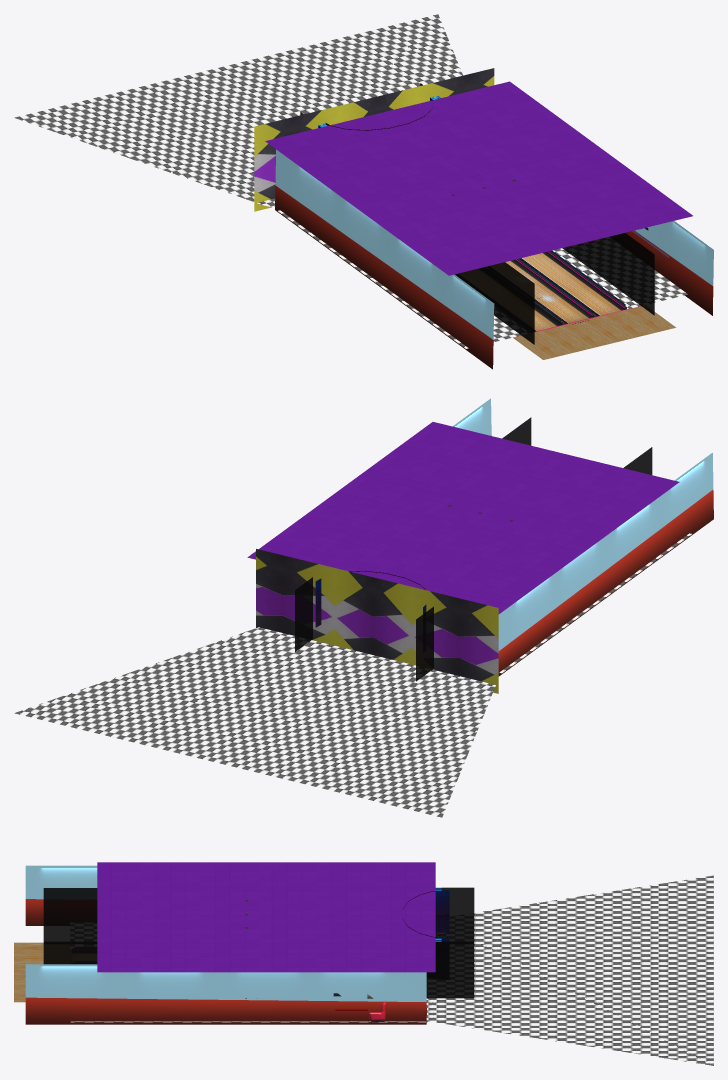
Rendered from room.glb.
3 views of the same model, one above another, from view 1: azimuth 30°, elevation 25°; view 2: azimuth 150°, elevation 25°; view 3: azimuth 270°, elevation 25° (orthographic). The views are drawn at different scales.
Visible parts, largest first — view 1: ceiling, ground, side_wall_upper, side_wall_lower, side_wall_black, back_wall, deck, alley_leftright, gutter, alley_main; view 2: ground, ceiling, back_wall, side_wall_upper, side_wall_lower, side_wall_black; view 3: ground, ceiling, side_wall_upper, side_wall_lower, side_wall_black, deck, logo_wall.
Part boxes in pixels (left/top/right/bottom): ceiling: left=265, top=81, right=692, bottom=275; ground: left=14, top=14, right=687, bottom=348; side_wall_upper: left=275, top=149, right=713, bottom=339; side_wall_lower: left=275, top=185, right=713, bottom=369; side_wall_black: left=300, top=83, right=654, bottom=344; back_wall: left=254, top=68, right=494, bottom=211; deck: left=513, top=306, right=675, bottom=359; alley_leftright: left=522, top=253, right=620, bottom=330; gutter: left=510, top=251, right=626, bottom=331; alley_main: left=505, top=261, right=588, bottom=323; ground: left=14, top=533, right=691, bottom=817; ceiling: left=247, top=422, right=679, bottom=614; back_wall: left=256, top=549, right=498, bottom=693; side_wall_upper: left=452, top=398, right=713, bottom=650; side_wall_lower: left=491, top=435, right=713, bottom=676; side_wall_black: left=295, top=417, right=652, bottom=681; ground: left=70, top=875, right=713, bottom=1065; ceiling: left=97, top=862, right=435, bottom=972; side_wall_upper: left=25, top=865, right=426, bottom=1001; side_wall_lower: left=25, top=899, right=426, bottom=1024; side_wall_black: left=43, top=887, right=474, bottom=998; deck: left=14, top=942, right=43, bottom=1002; logo_wall: left=402, top=890, right=449, bottom=941.
Bounding box in the file's own units: 22 × 4.22 × 34.17.
32 materials, 24 textured.
